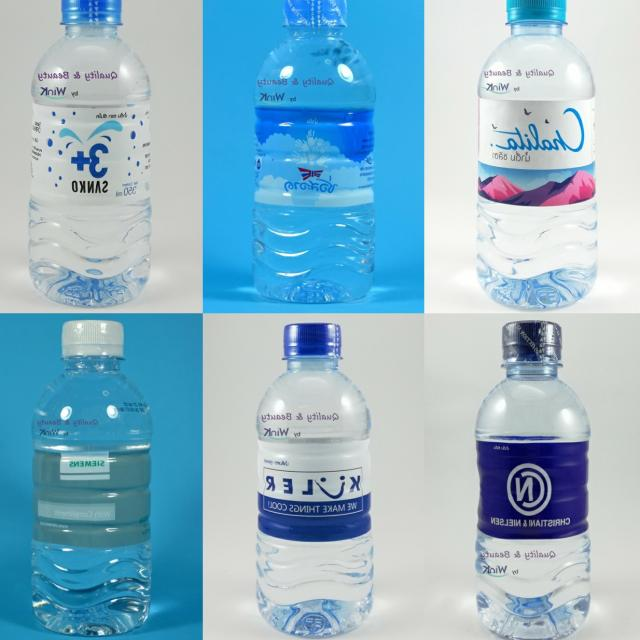plastik: (32, 320, 153, 635), (29, 0, 151, 306), (477, 0, 598, 308), (253, 0, 376, 302), (256, 323, 373, 637), (476, 320, 590, 640)
